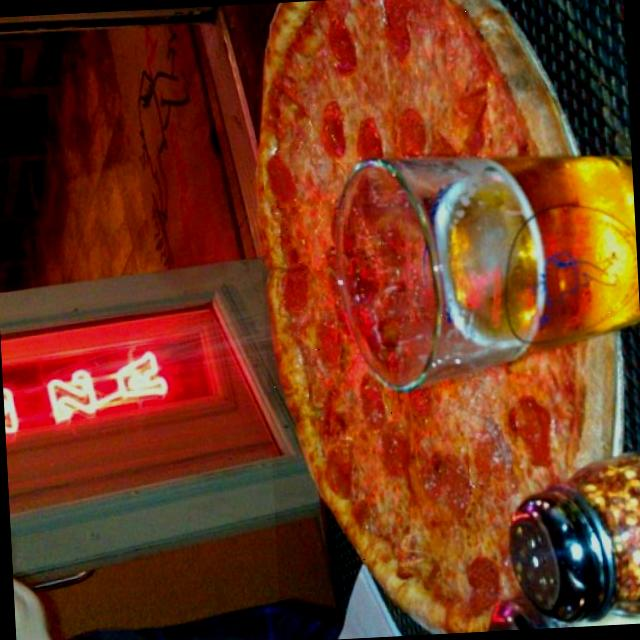pepperoni: (504, 386, 554, 478), (419, 440, 471, 520), (368, 0, 428, 66), (316, 424, 366, 502), (467, 412, 512, 484), (454, 554, 502, 616), (310, 97, 355, 163), (262, 147, 310, 207), (354, 360, 392, 434), (398, 98, 434, 170), (322, 10, 365, 70), (274, 262, 317, 322), (308, 308, 340, 377), (398, 366, 438, 421), (378, 436, 415, 487), (352, 114, 386, 164)
pizza: (257, 0, 616, 634)
